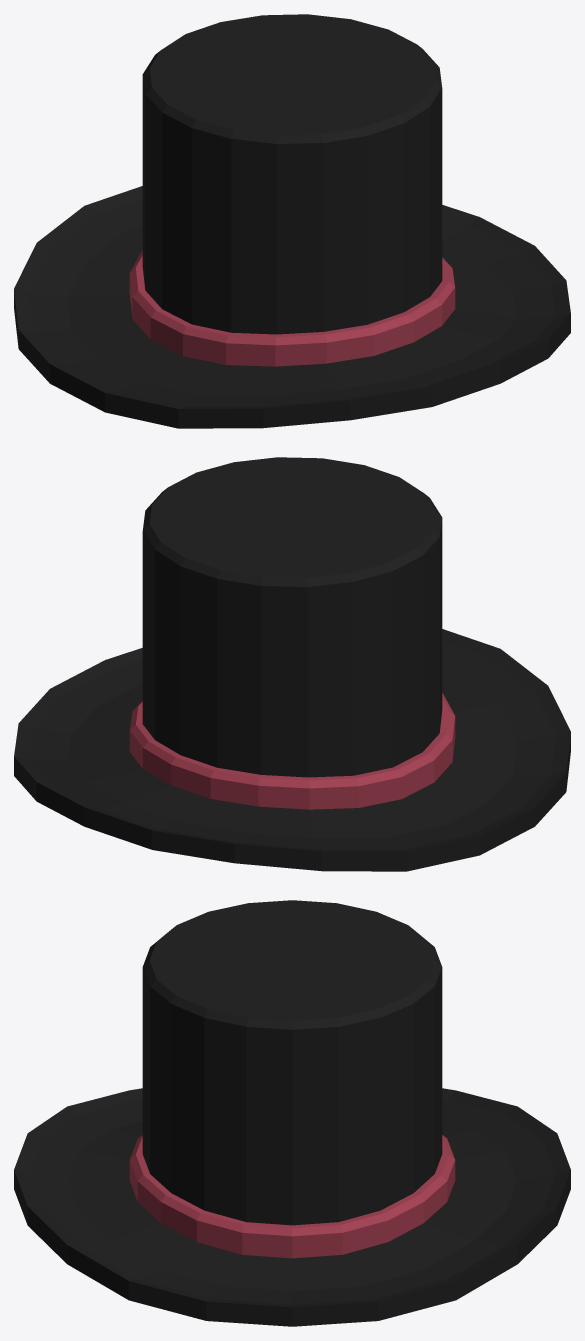
Rendered from Hat C-col.glb.
3 views of the same model, one above another, from view 1: azimuth 30°, elevation 25°; view 2: azimuth 150°, elevation 25°; view 3: azimuth 270°, elevation 25° (orthographic).
Parts seen in each view (by area): view 1: Hat C-col; view 2: Hat C-col; view 3: Hat C-col.
Boxes of the visible parts, x1=… form: Hat C-col: x1=14, y1=14, x2=570, y2=428; Hat C-col: x1=14, y1=457, x2=570, y2=871; Hat C-col: x1=14, y1=900, x2=570, y2=1326.
Bounding box in the file's own units: 0.4893 × 0.2409 × 0.4893.
